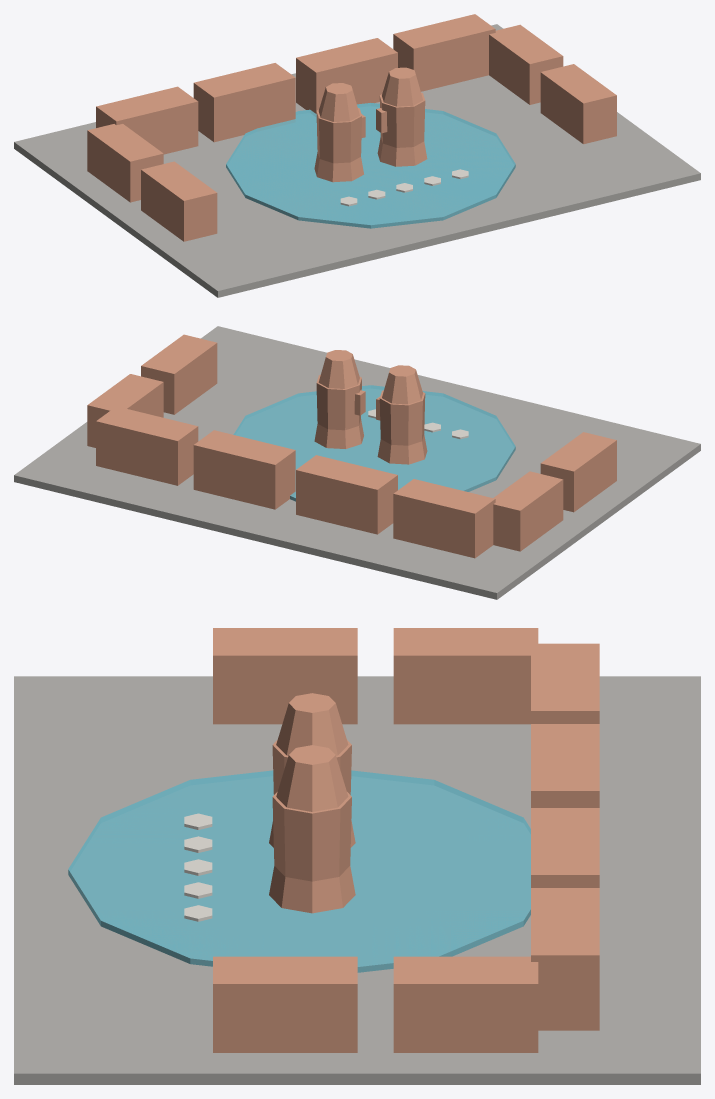
The model's file is lm_36_duong_ham_dieu_khac_dat_set_ho_vo_cuc.glb.
3 views of the same model, one above another, from view 1: azimuth 30°, elevation 25°; view 2: azimuth 150°, elevation 25°; view 3: azimuth 270°, elevation 25° (orthographic). The views are drawn at different scales.
Parts seen in each view (by area): view 1: lm_36_duong_ham_dieu_khac_dat_set_ho_vo_cuc; view 2: lm_36_duong_ham_dieu_khac_dat_set_ho_vo_cuc; view 3: lm_36_duong_ham_dieu_khac_dat_set_ho_vo_cuc.
Boxes of the visible parts, left/top/right/bottom form: lm_36_duong_ham_dieu_khac_dat_set_ho_vo_cuc: left=14, top=14, right=700, bottom=297; lm_36_duong_ham_dieu_khac_dat_set_ho_vo_cuc: left=14, top=326, right=700, bottom=599; lm_36_duong_ham_dieu_khac_dat_set_ho_vo_cuc: left=14, top=628, right=700, bottom=1084.
Size of the model in its own units: 52 by 9.6 by 38.
